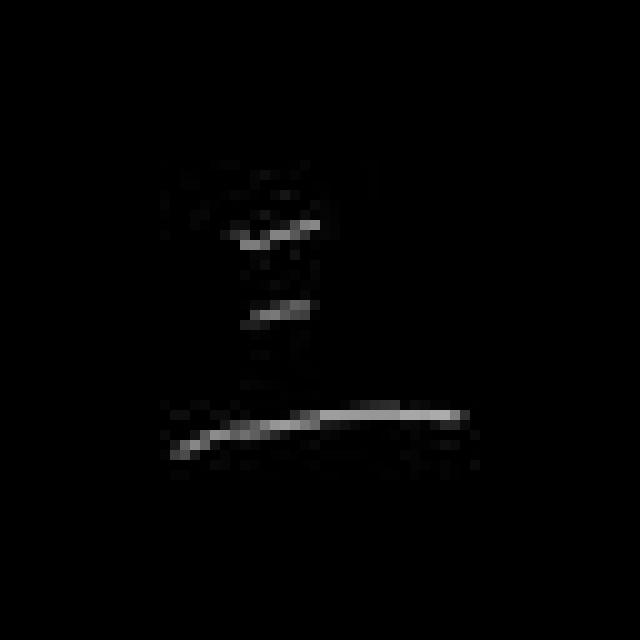3 -three-: (151, 198, 481, 474)
